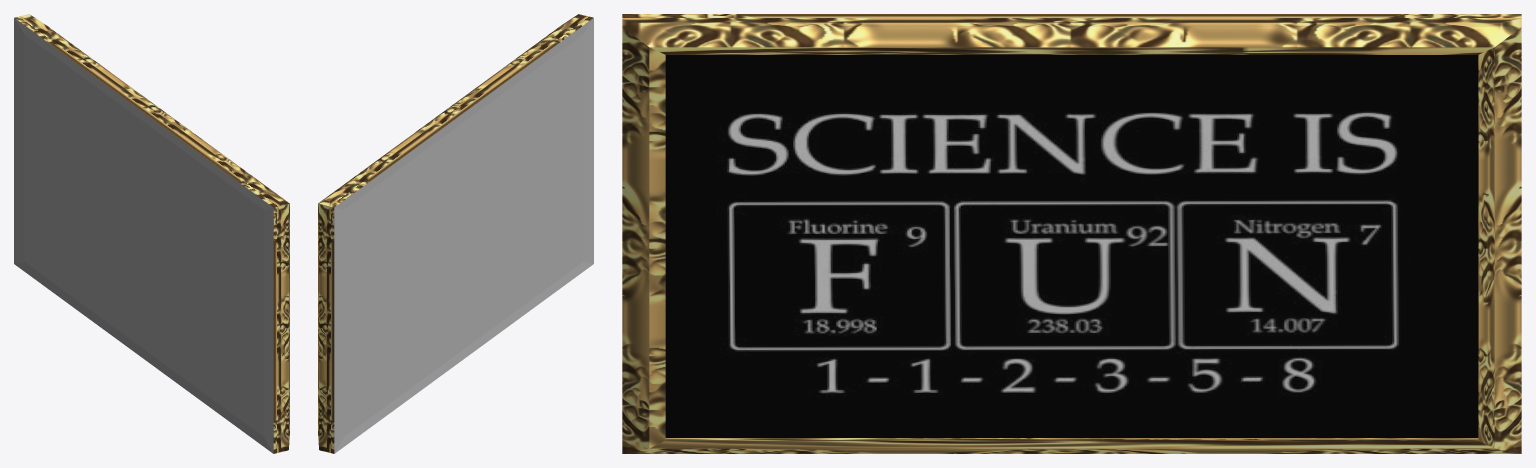
Rendered from Painting1.fbx.
The picture shows the model from 3 angles, left to right: view 1: azimuth 30°, elevation 25°; view 2: azimuth 150°, elevation 25°; view 3: azimuth 270°, elevation 25°; orthographic projection. The views are drawn at different scales.
Parts seen in each view (by area): view 1: Cube; view 2: Cube; view 3: Cube.
Boxes of the visible parts, <box> form: Cube: <box>14,14,289,453</box>; Cube: <box>318,14,593,453</box>; Cube: <box>622,14,1521,453</box>.
Bounding box in the file's own units: 46.49 × 453 × 865.
